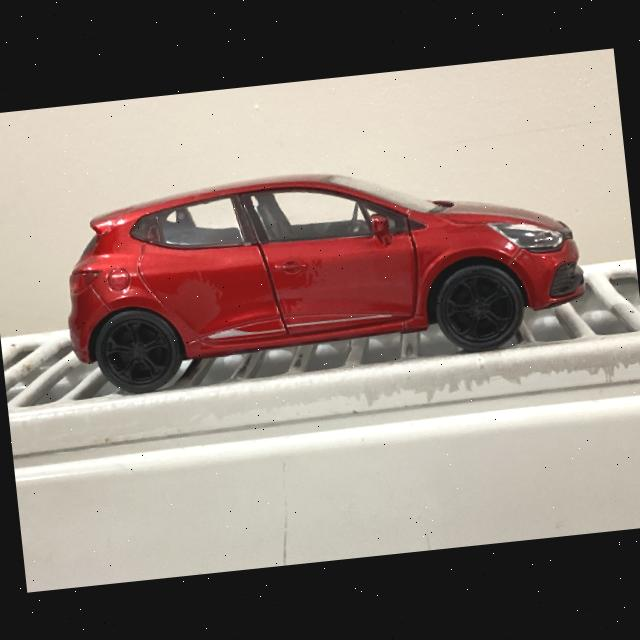Dogru_Jant: (442, 270, 518, 344), (100, 316, 172, 386)
